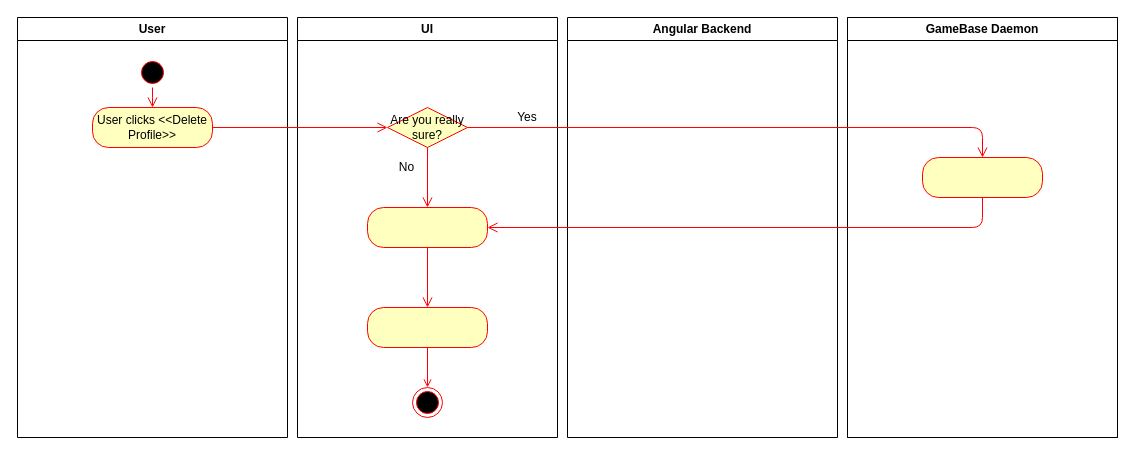
Some shapes in this 1135 by 455 pixel diagram are drawn without their labels. The shapes that lost their labels are listed below. From the top down, each one's centre as x and y in pixels, then its label:
pixel 982 177: delete profile
pixel 427 227: show confirmation message
pixel 427 327: show main page
